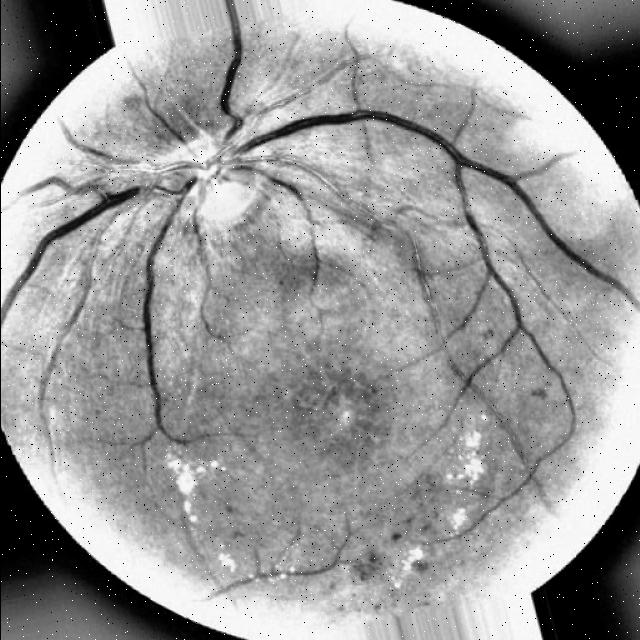Macula: (290, 275, 356, 345)
Nerves: (26, 184, 145, 267), (259, 104, 451, 149), (140, 230, 174, 384), (214, 21, 250, 124)
Optic Disk: (154, 131, 266, 230)
